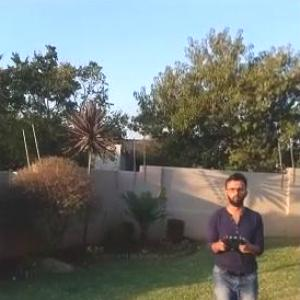follow: (205, 169, 267, 299)
